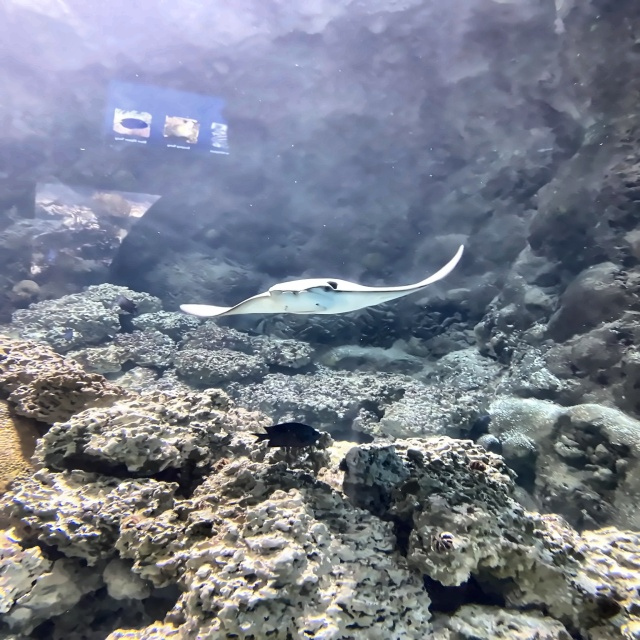fish: (247, 421, 323, 452)
stingray: (180, 244, 465, 318)
